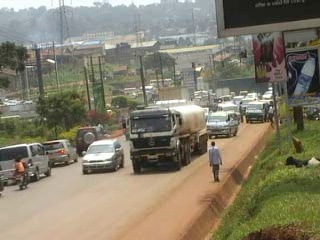Car: (81, 134, 125, 175), (72, 122, 108, 158), (40, 138, 79, 169)
Motorcycle: (12, 156, 36, 192)
